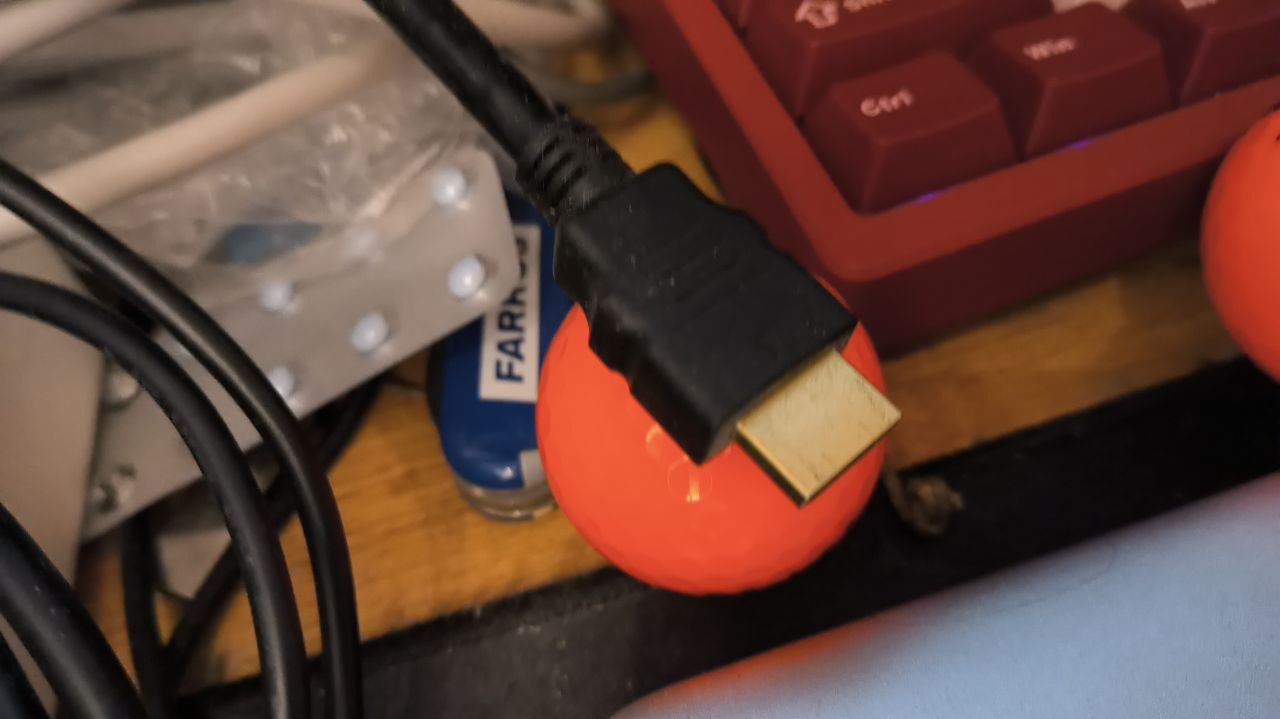orange_ball: (535, 270, 889, 596), (1200, 109, 1280, 384)
